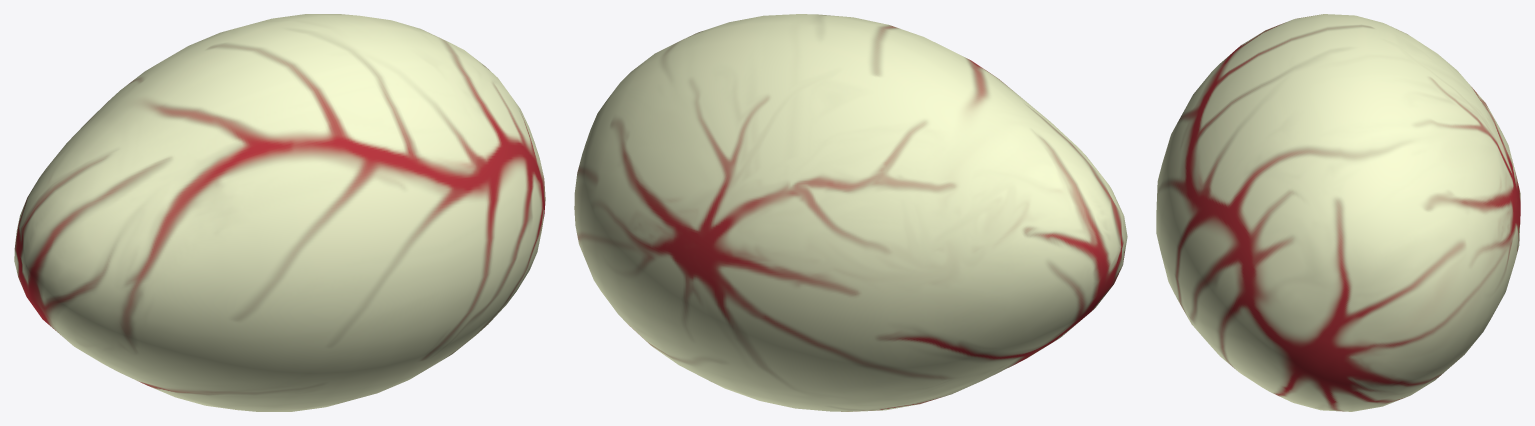
Rendered from OvoDeDragao.fbx.
3 renders of one model, left to right at view 1: azimuth 30°, elevation 25°; view 2: azimuth 150°, elevation 25°; view 3: azimuth 270°, elevation 25°, orthographic. The views are drawn at different scales.
Parts seen in each view (by area): view 1: Ovo de Dragao; view 2: Ovo de Dragao; view 3: Ovo de Dragao.
Boxes of the visible parts, x1,y1,x2,y2 form: Ovo de Dragao: (14,14,545,411); Ovo de Dragao: (574,14,1127,411); Ovo de Dragao: (1156,14,1520,411).
Size of the model in its own units: 202 by 139 by 139.
